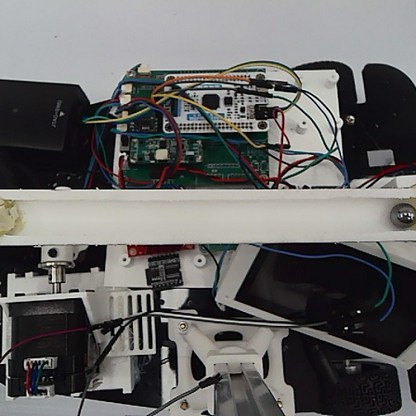ironball: (387, 199, 414, 229)
